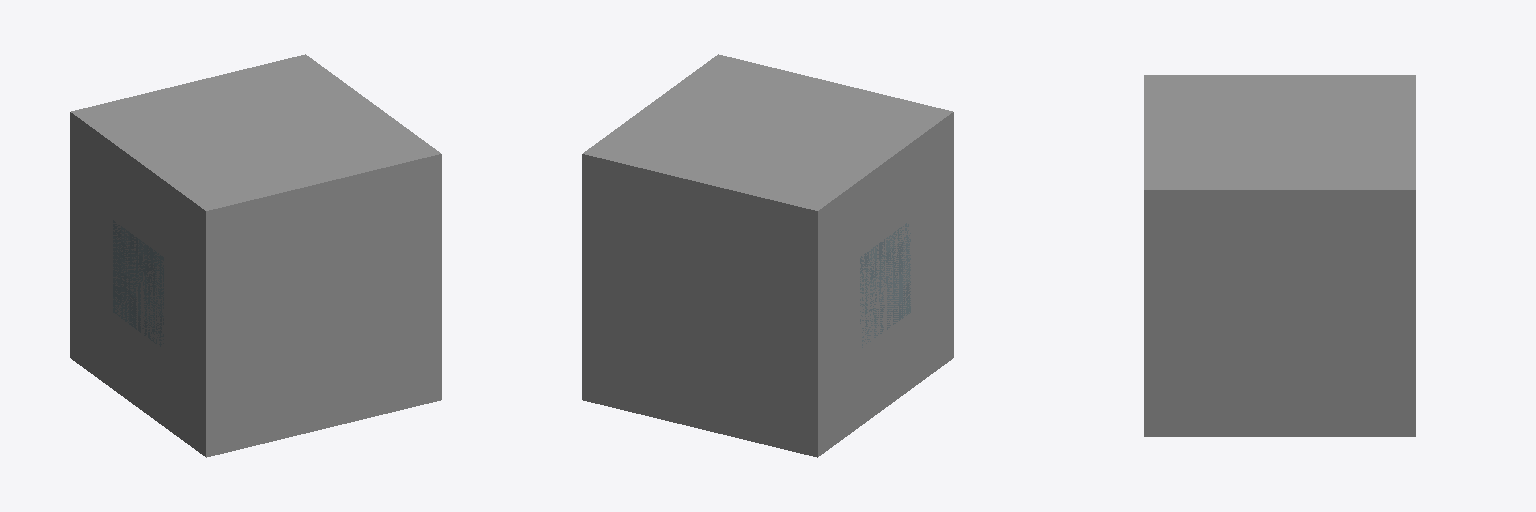
3 renders of one model, left to right at view 1: azimuth 30°, elevation 25°; view 2: azimuth 150°, elevation 25°; view 3: azimuth 270°, elevation 25°, orthographic.
Parts seen in each view (by area): view 1: Minecraft_Block_Cube, Minecraft_2_Edge_Connectivity_Cube.002, main; view 2: Minecraft_Block_Cube, Minecraft_2_Edge_Connectivity_Cube.002, main; view 3: Minecraft_Block_Cube.
Boxes of the visible parts, x1,y1,x2,y2 form: Minecraft_Block_Cube: [71, 54, 441, 457]; Minecraft_2_Edge_Connectivity_Cube.002: [70, 112, 322, 456]; main: [113, 220, 163, 346]; Minecraft_Block_Cube: [582, 54, 952, 457]; Minecraft_2_Edge_Connectivity_Cube.002: [703, 112, 953, 456]; main: [860, 223, 910, 347]; Minecraft_Block_Cube: [1144, 75, 1415, 436].
Bounding box in the file's own units: 1 × 1 × 1.
2 materials, 1 textured.